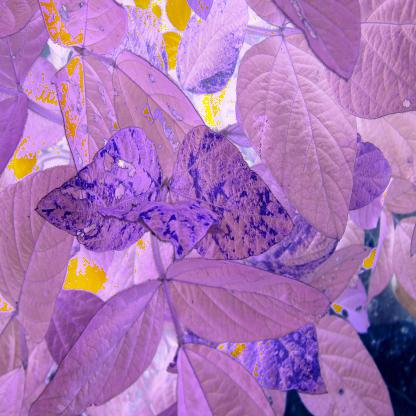tomato leaf: (166, 257, 324, 346)
tomato leaf mosaic virus: (35, 125, 162, 259), (171, 129, 287, 254)
